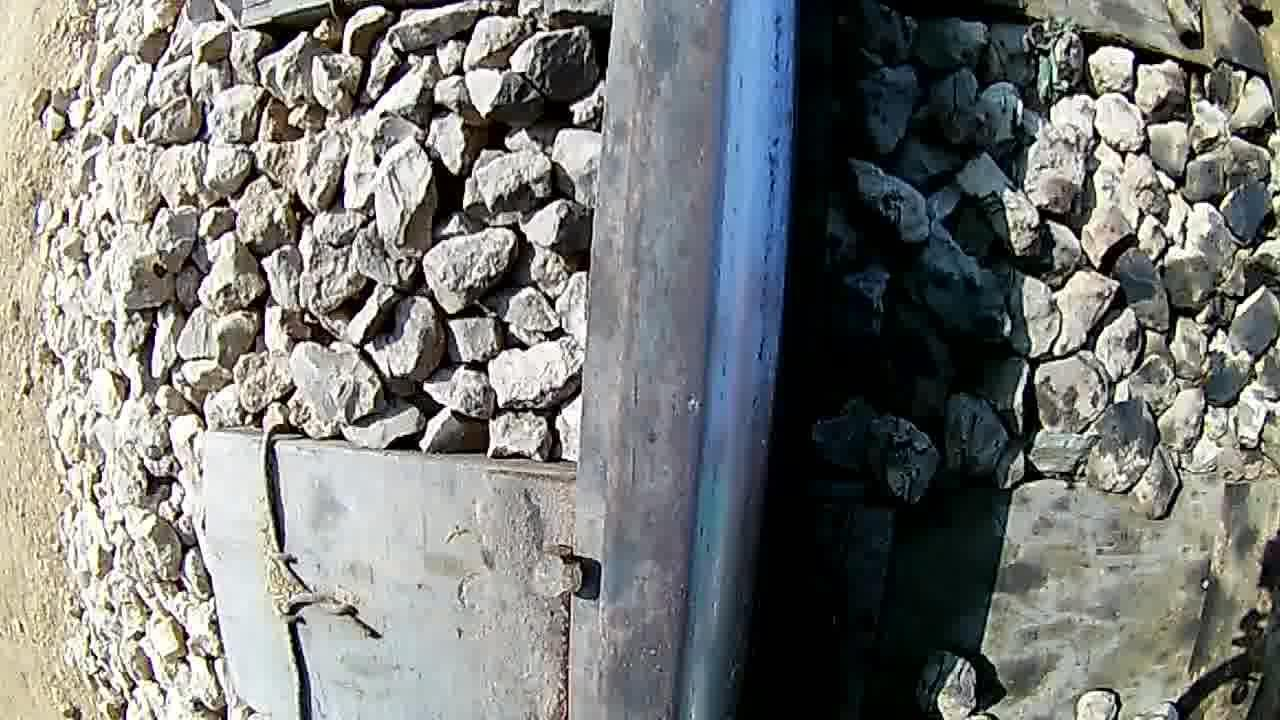crack: (633, 3, 797, 719)
